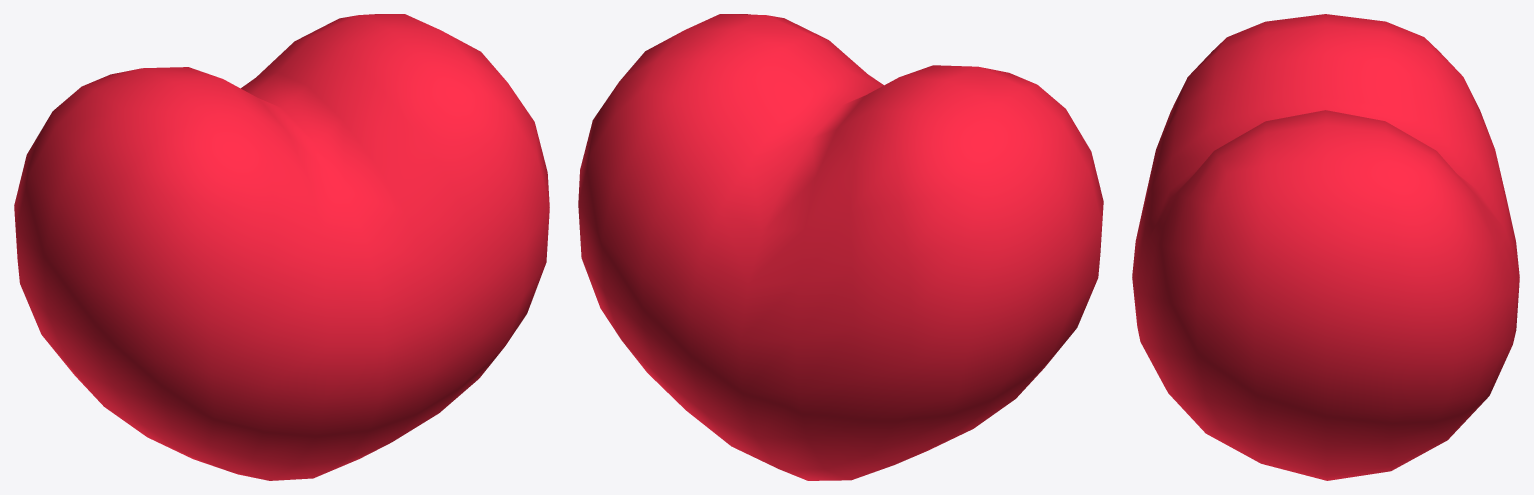
File: 3D_Heart-Red.glb
3 views of the same model, side by side, from view 1: azimuth 30°, elevation 25°; view 2: azimuth 150°, elevation 25°; view 3: azimuth 270°, elevation 25° (orthographic). The views are drawn at different scales.
Parts seen in each view (by area): view 1: Plane; view 2: Plane; view 3: Plane.
Boxes of the visible parts, x1=… form: Plane: x1=14, y1=14, x2=549, y2=480; Plane: x1=578, y1=14, x2=1103, y2=480; Plane: x1=1132, y1=14, x2=1519, y2=480.
Bounding box in the file's own units: 1.97 × 1.65 × 1.47.
